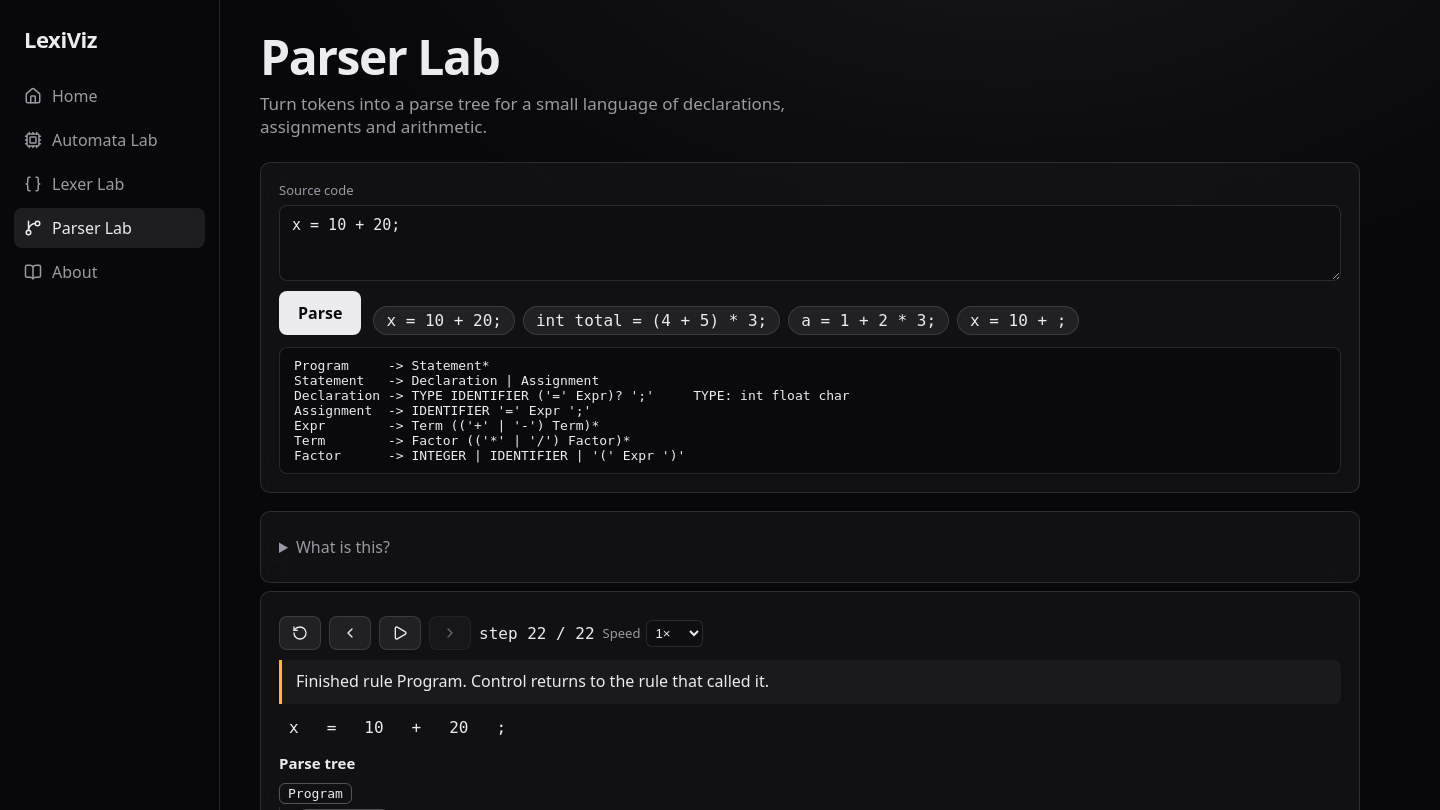
Test: Parser Lab › a syntax error shows the message, the line and a caret at the column
This screenshot has width=1440, height=810.
Replace the text in the text box labelled "Source code" with "x = 10 + ;" at (810, 243), box top-left (279, 205), bottom-right (1341, 281)
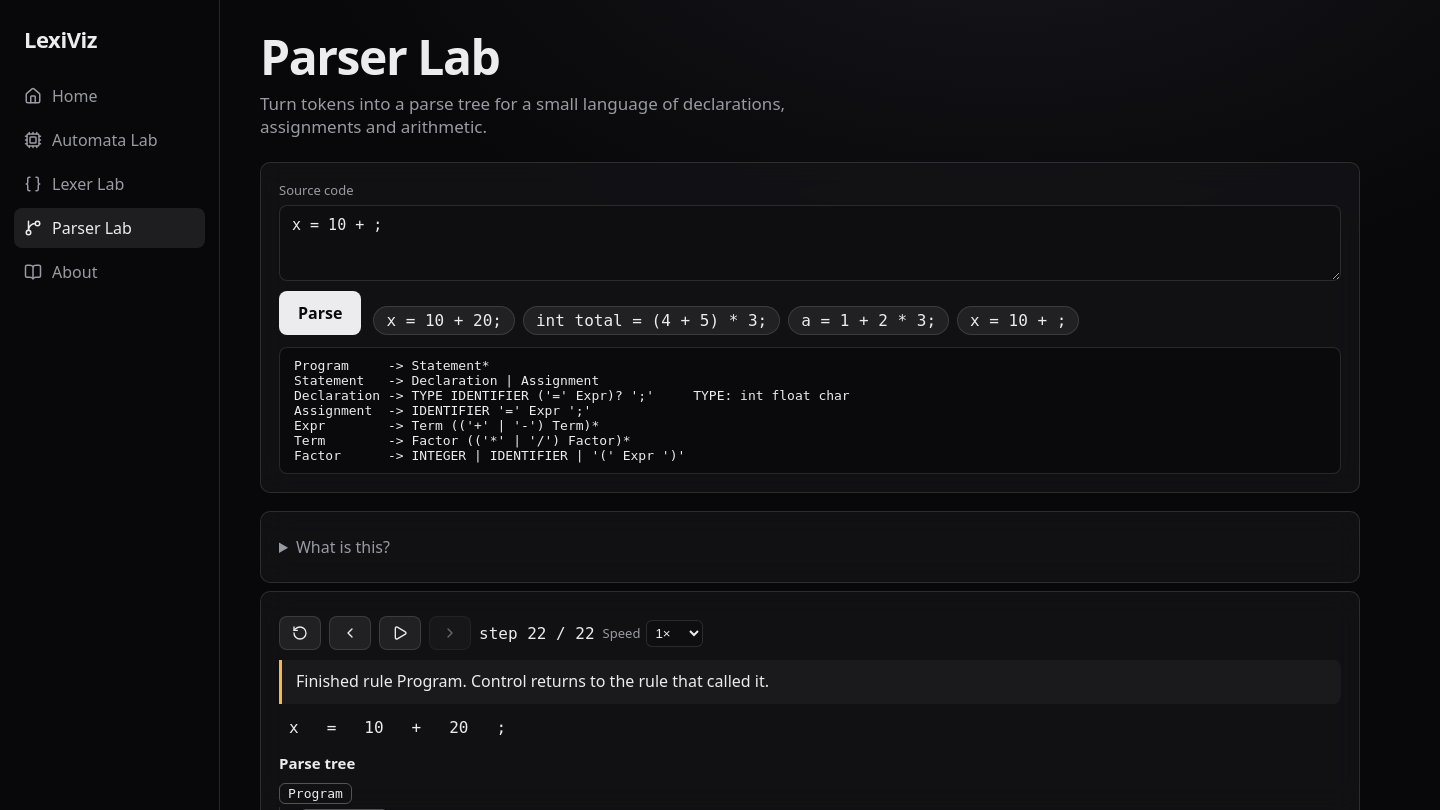
Click the button "Parse".
click(320, 313)  # box top-left (279, 291), bottom-right (361, 335)
(page scrolled)
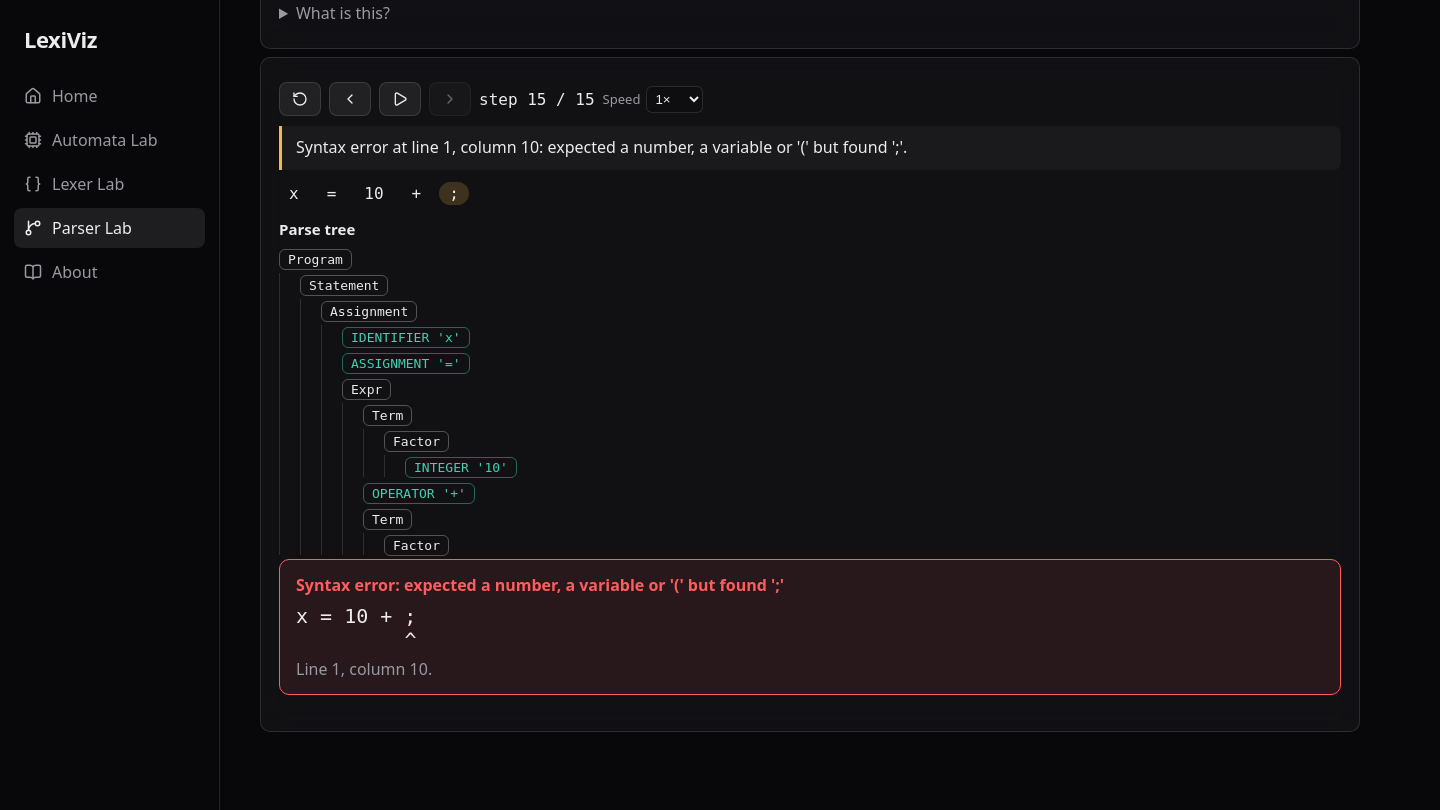
Now the message shows "Syntax error: expected a number, a variable or '(' but found ';'", box top-left (296, 574), bottom-right (784, 596)
Now the message shows "Line 1, column 10", box top-left (279, 559), bottom-right (1341, 695)
